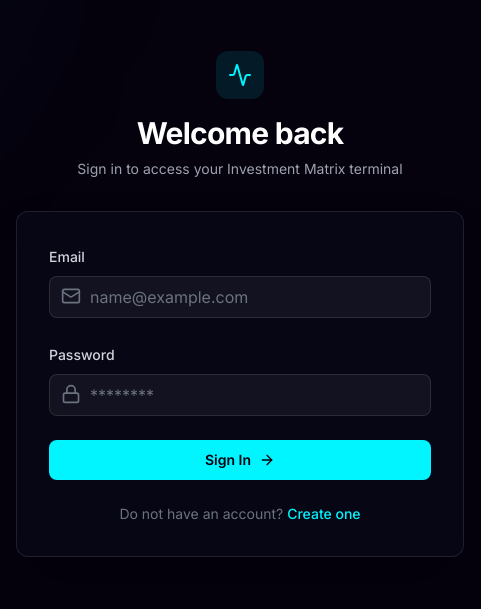
it: LoginPage › renders an error when login fails
Type "trader@example.com" into the field with placeholder "name@example.com".
click(240, 297); type("trader@example.com")  # box [49,276,431,318]
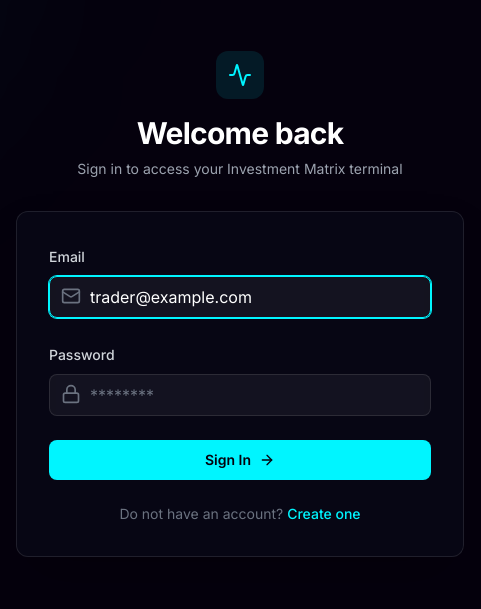
Type "wrong" into the password field with placeholder "********".
click(240, 395); type("wrong")  # box [49,374,431,416]
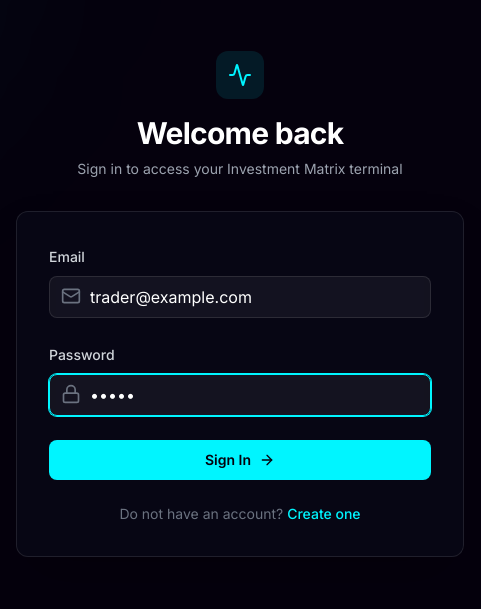
Click the button "Sign In".
click(240, 460)  # box [49,440,431,480]
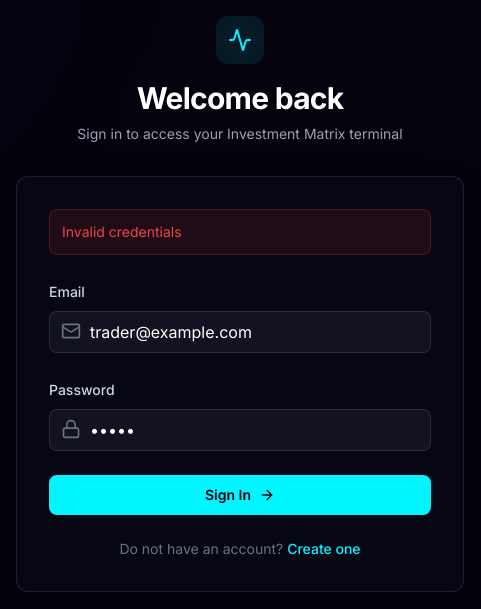
Expected: the text "Invalid credentials" is shown, [49,209,431,255]
